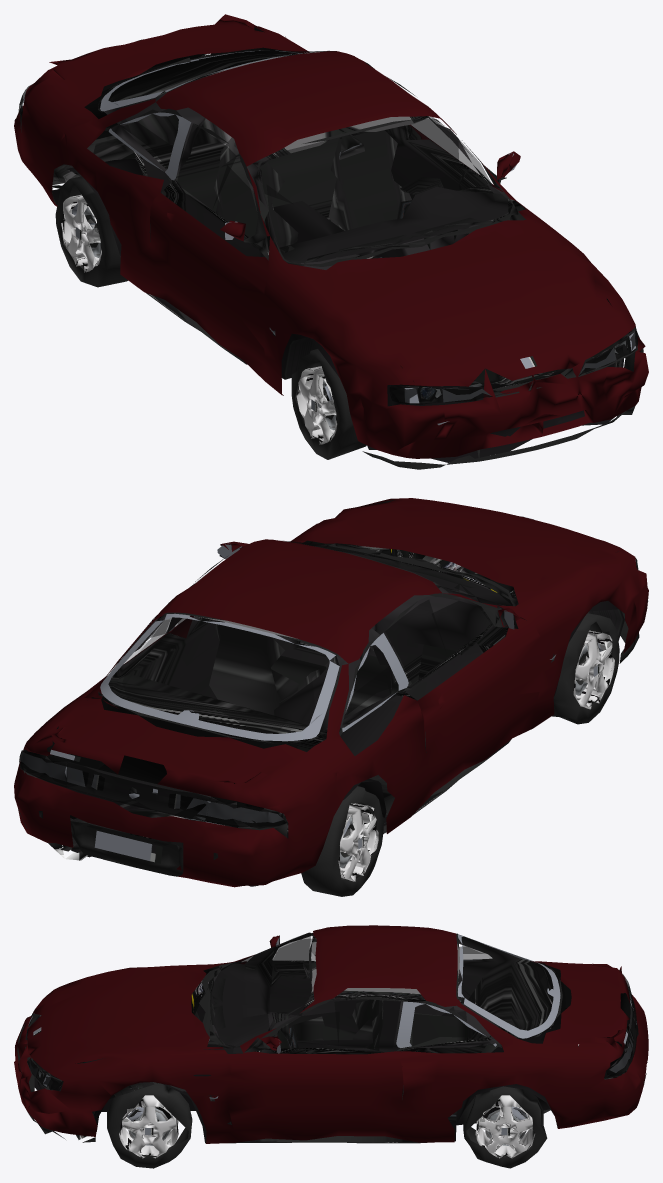
File: 1997_nissan_200sx_s14.glb
The picture shows the model from 3 angles, top to bottom: view 1: azimuth 30°, elevation 25°; view 2: azimuth 150°, elevation 25°; view 3: azimuth 270°, elevation 25°; orthographic projection. The views are drawn at different scales.
Parts seen in each view (by area): view 1: body; view 2: body; view 3: body.
Boxes of the visible parts, x1=… form: body: x1=14, y1=14, x2=648, y2=469; body: x1=14, y1=498, x2=648, y2=896; body: x1=14, y1=925, x2=648, y2=1168.
Bounding box in the file's own units: 1.88 × 1.31 × 4.52.
12 materials, 8 textured.
